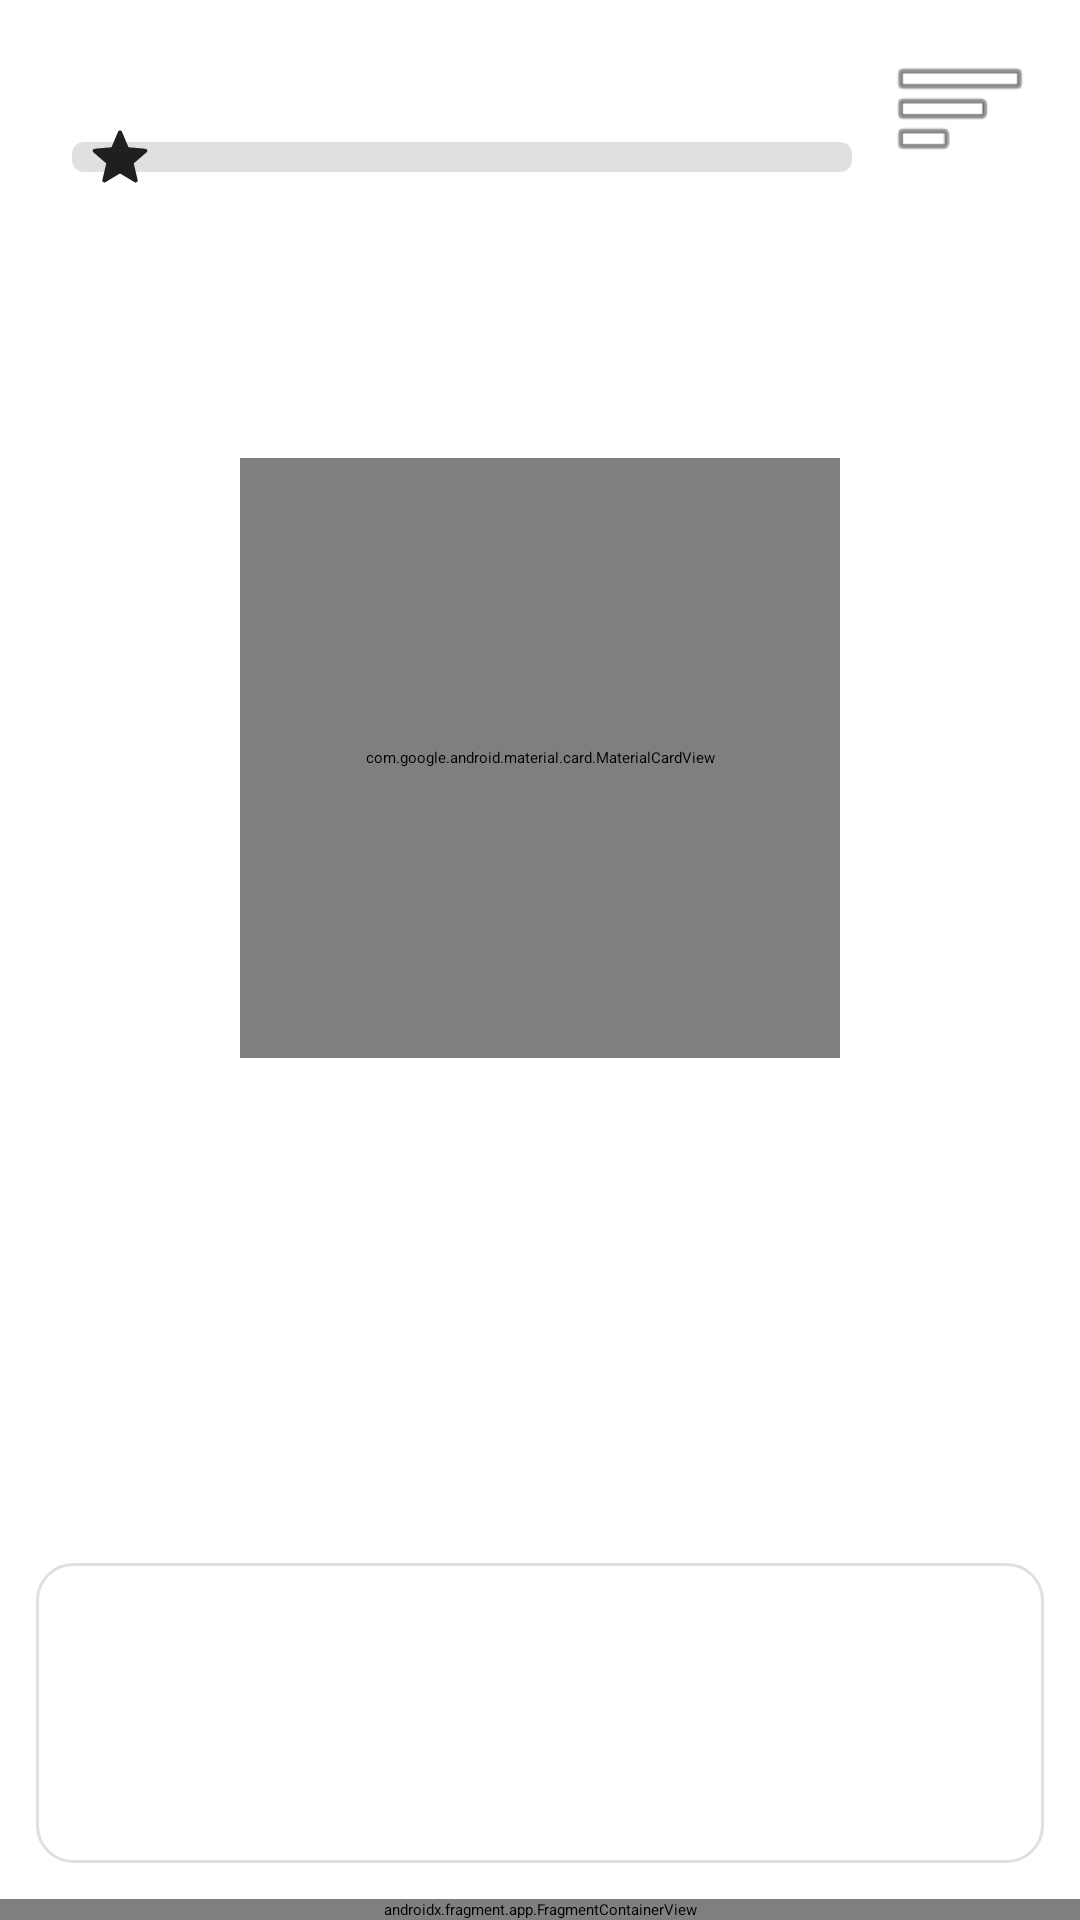

Named icons in this screenshot (1080w x 1920h) and their centers, (x=x, y=y):
star: (x=120, y=156)
